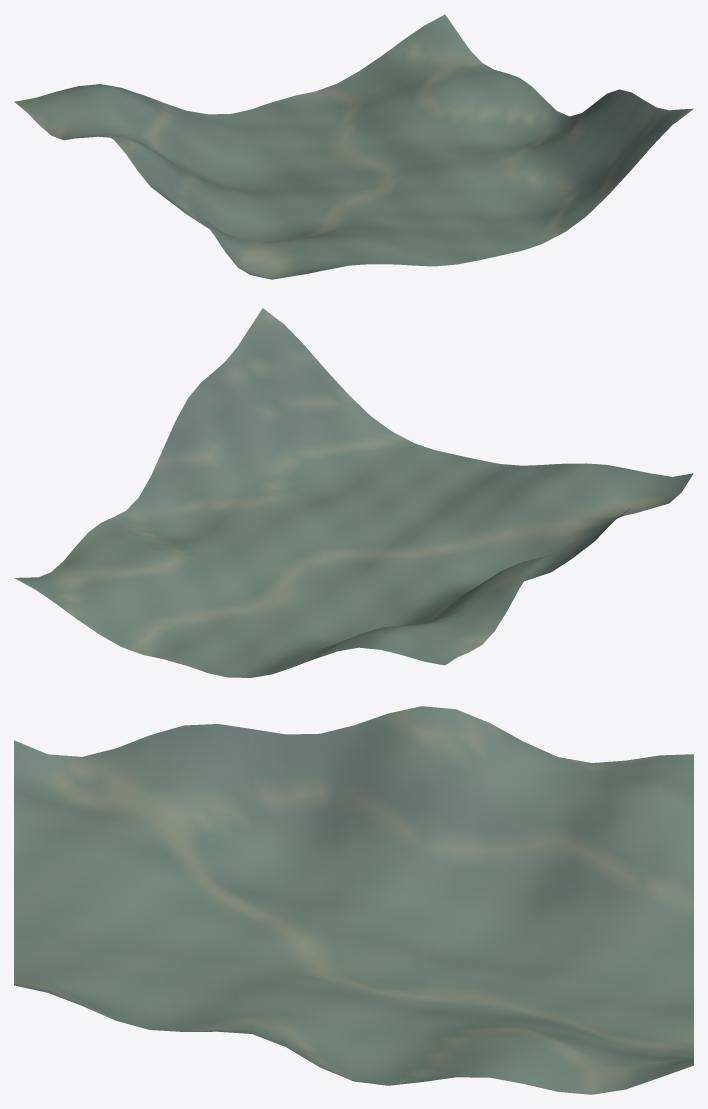
Rendered from ridge_-1_-7.glb.
3 views of the same model, one above another, from view 1: azimuth 30°, elevation 25°; view 2: azimuth 150°, elevation 25°; view 3: azimuth 270°, elevation 25° (orthographic). The views are drawn at different scales.
Size of the model in its own units: 220 by 66.14 by 220.
